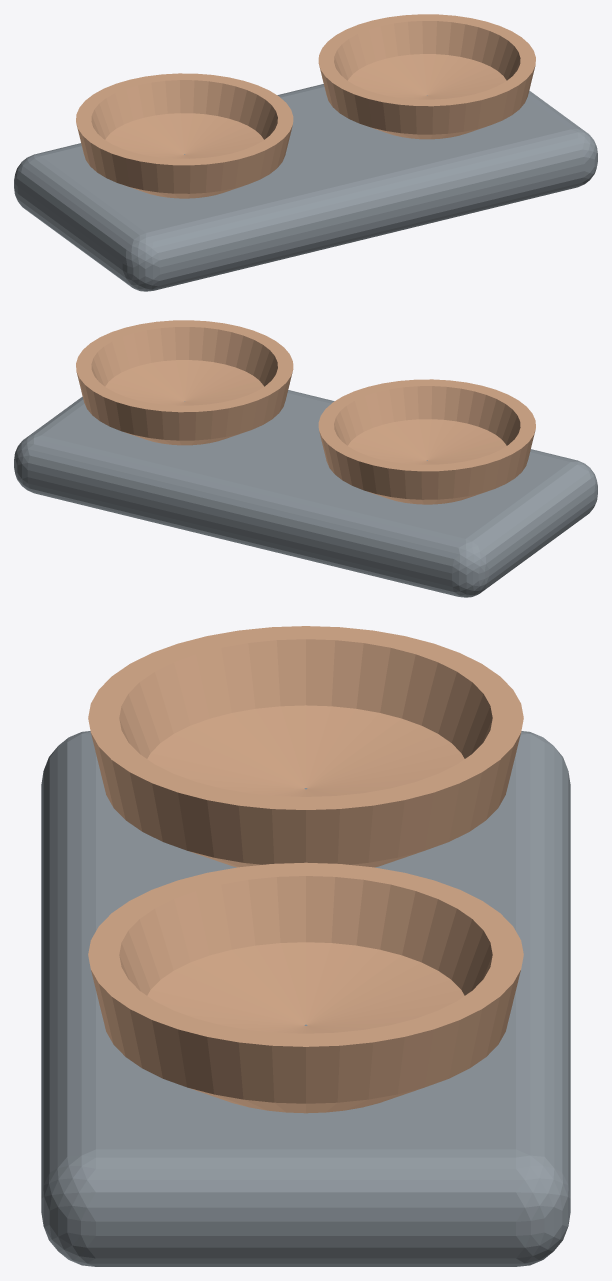
The model's file is cat_feeding_station.glb.
3 views of the same model, one above another, from view 1: azimuth 30°, elevation 25°; view 2: azimuth 150°, elevation 25°; view 3: azimuth 270°, elevation 25° (orthographic). The views are drawn at different scales.
Parts seen in each view (by area): view 1: shell_001, bowl_002, bowl_003; view 2: shell_001, bowl_002, bowl_003; view 3: shell_001, bowl_003, bowl_002.
Part boxes in pixels (x1,y1,x2,y2): shell_001: (14,84,597,291); bowl_002: (76,73,293,198); bowl_003: (318,14,535,139); shell_001: (14,390,597,597); bowl_002: (318,379,535,504); bowl_003: (76,320,293,445); shell_001: (41,731,570,1266); bowl_003: (88,862,523,1113); bowl_002: (88,626,523,867).
Size of the model in its own units: 0.7 by 0.155 by 0.34.
